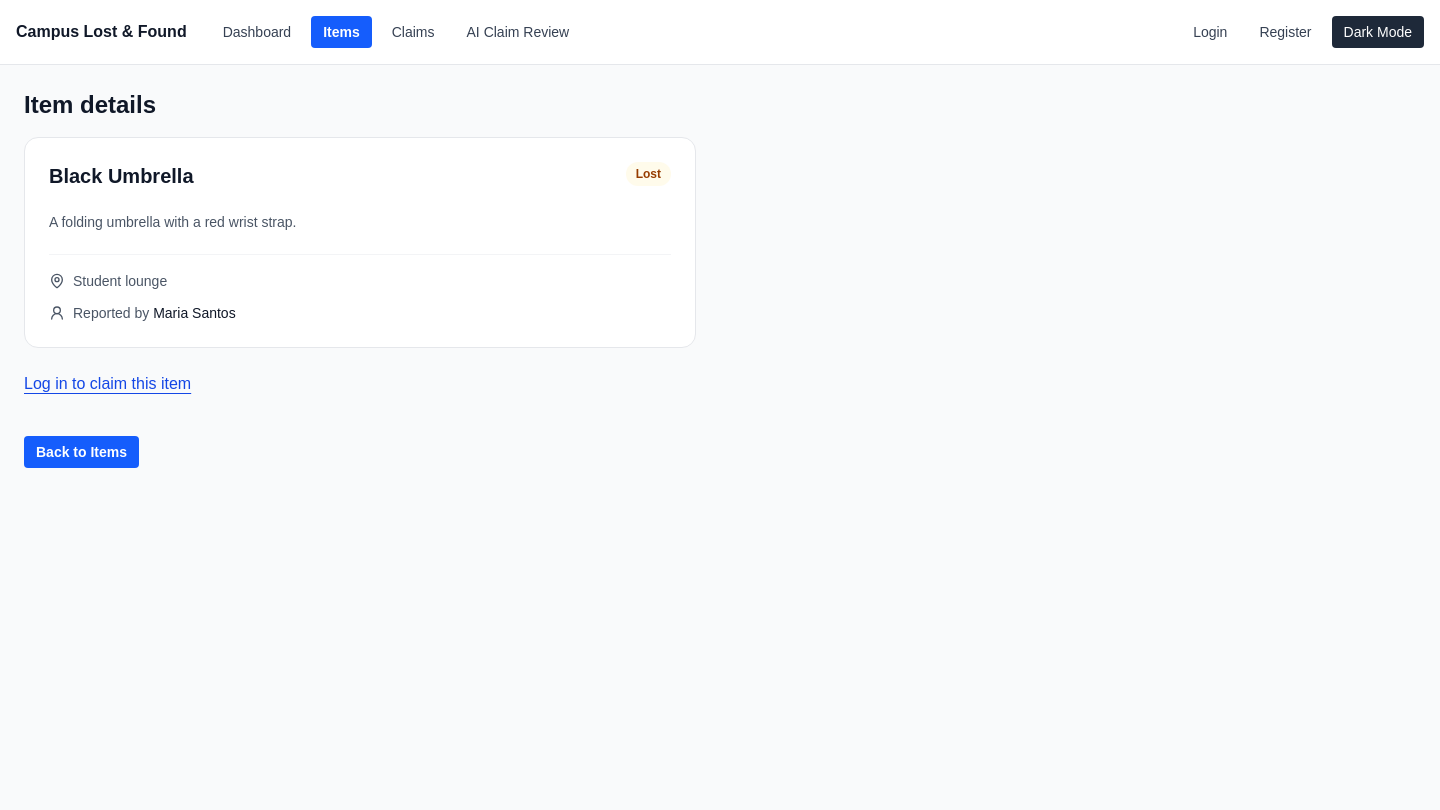
Test: item claim flow › returns to the selected item after authentication (register: false)
This screenshot has width=1440, height=810.
Step 1. Click the link "Log in to claim this item" → (108, 384), box [24,375,191,392]
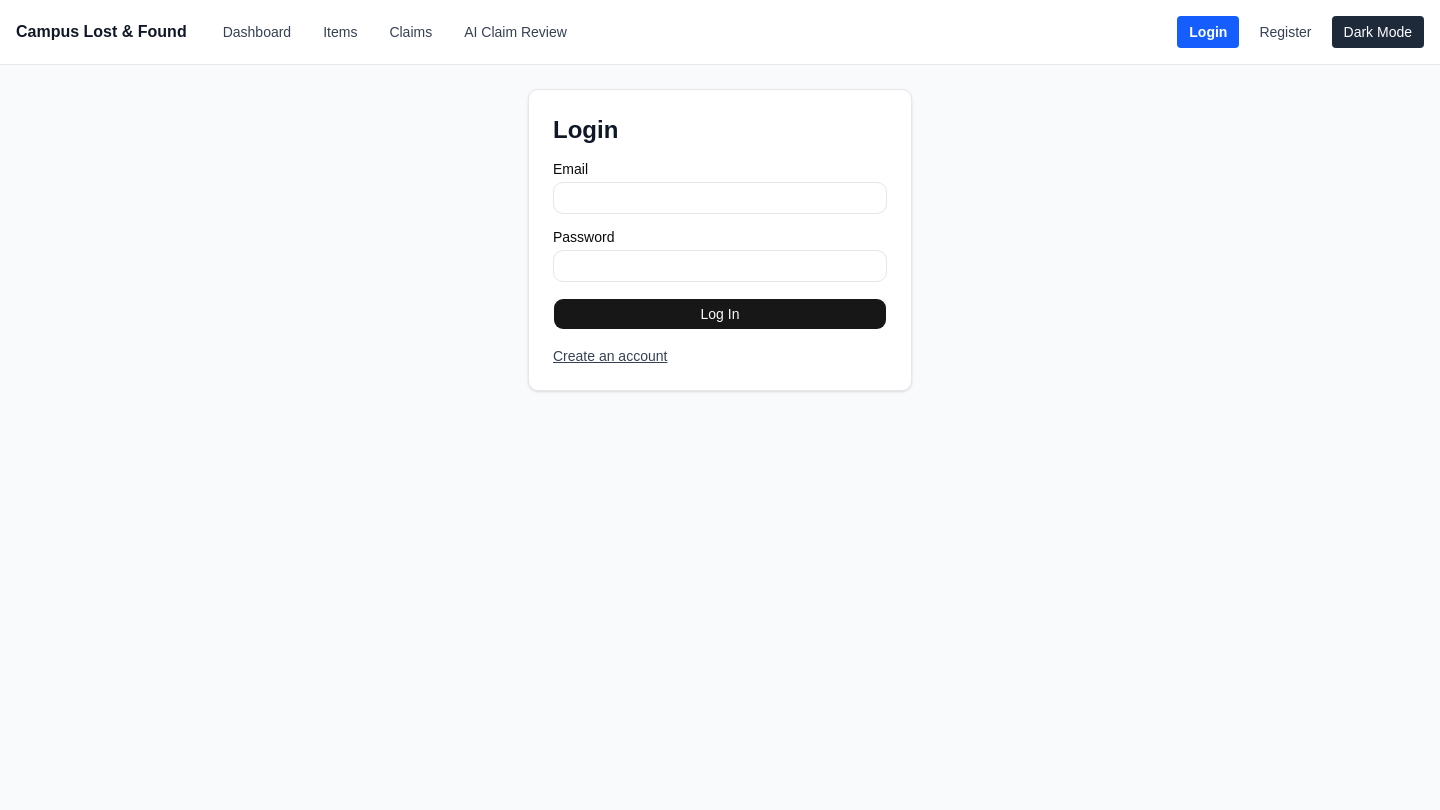
Step 2. Type "alex@example.com" into the field labelled "Email" → (720, 198), box [553,182,887,214]
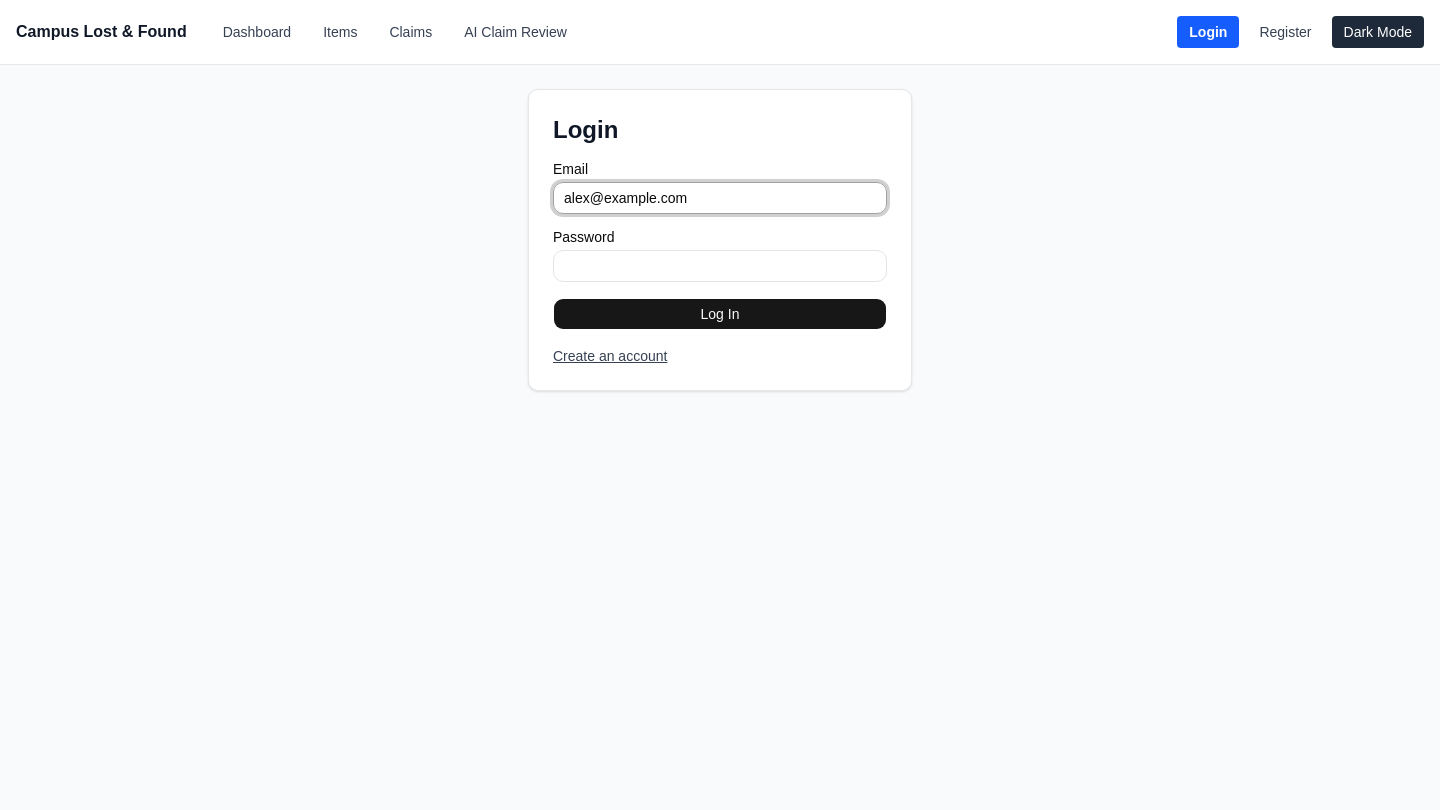
Step 3. Type "TestPassword123!" into the password field labelled "Password" → (720, 266), box [553,250,887,282]
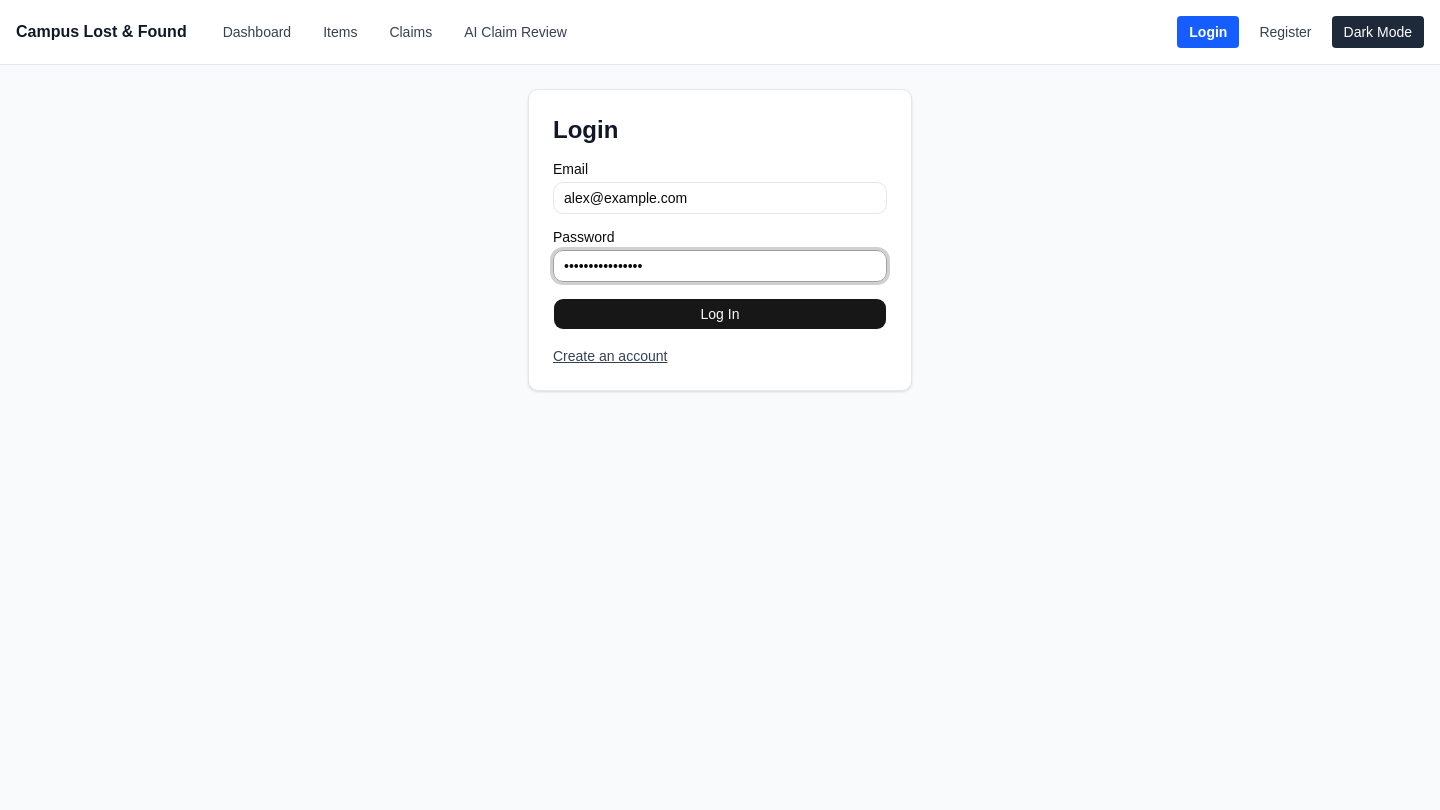
Step 4. Click the button "Log In" → (720, 314), box [553,298,887,330]
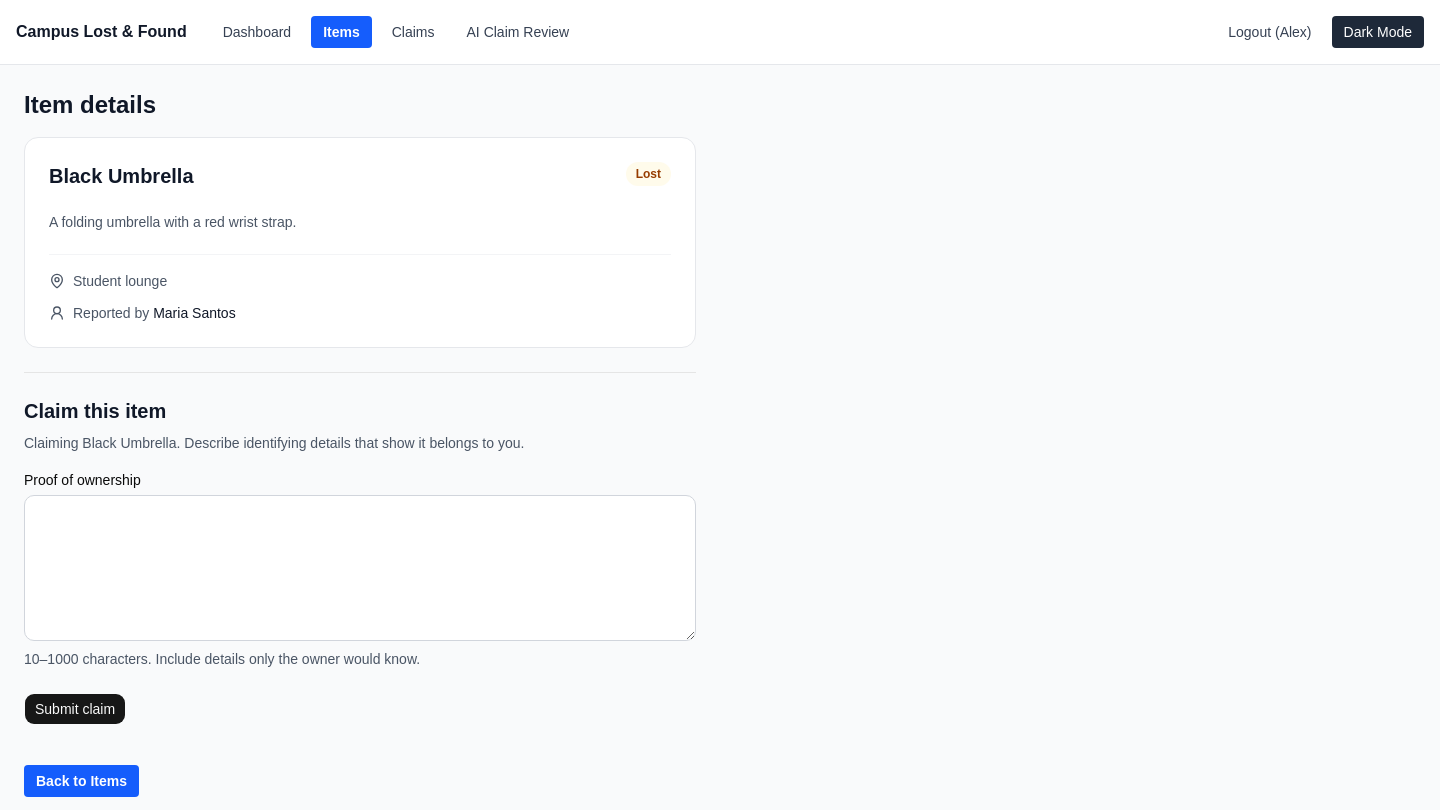
Expected: the text box labelled "Proof of ownership" is shown, [24,495,696,641]
